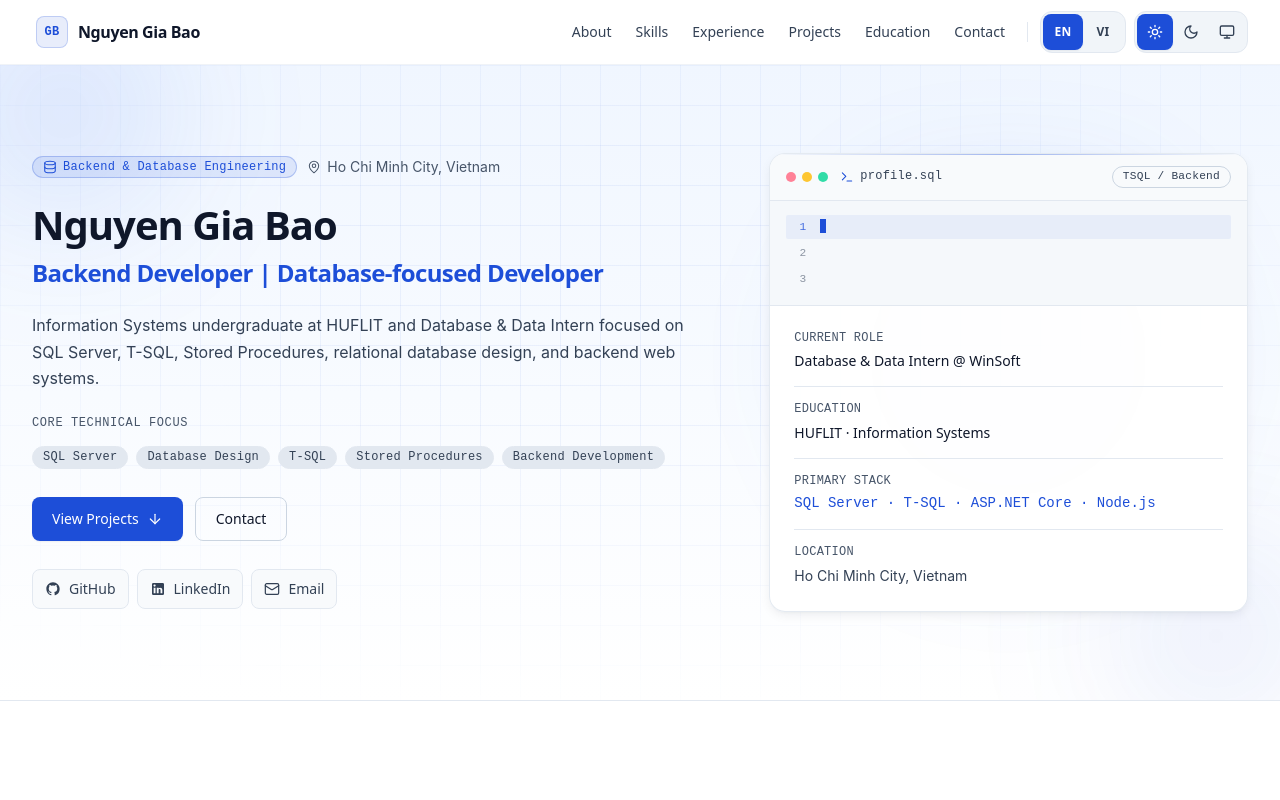
Stage 4 – Complete Portfolio Website › switches between EN and VI while preserving theme preference
This screenshot has width=1280, height=800.
Click the button with aria-label "VI — Switch language to Vietnamese".
click(1103, 32)  # box [1083,14,1123,50]
(page scrolled)
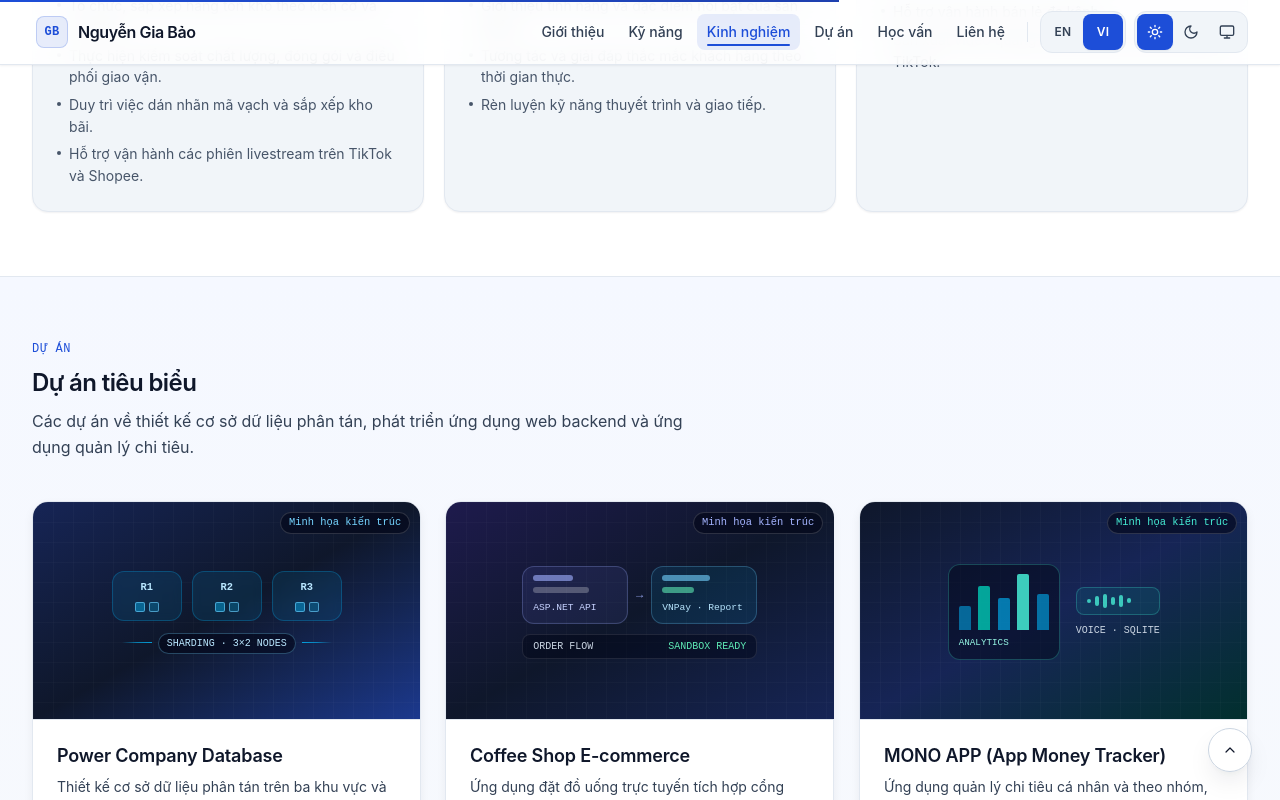
Check: the heading "Dự án tiêu biểu" is shown, box [32,368,196,397]
